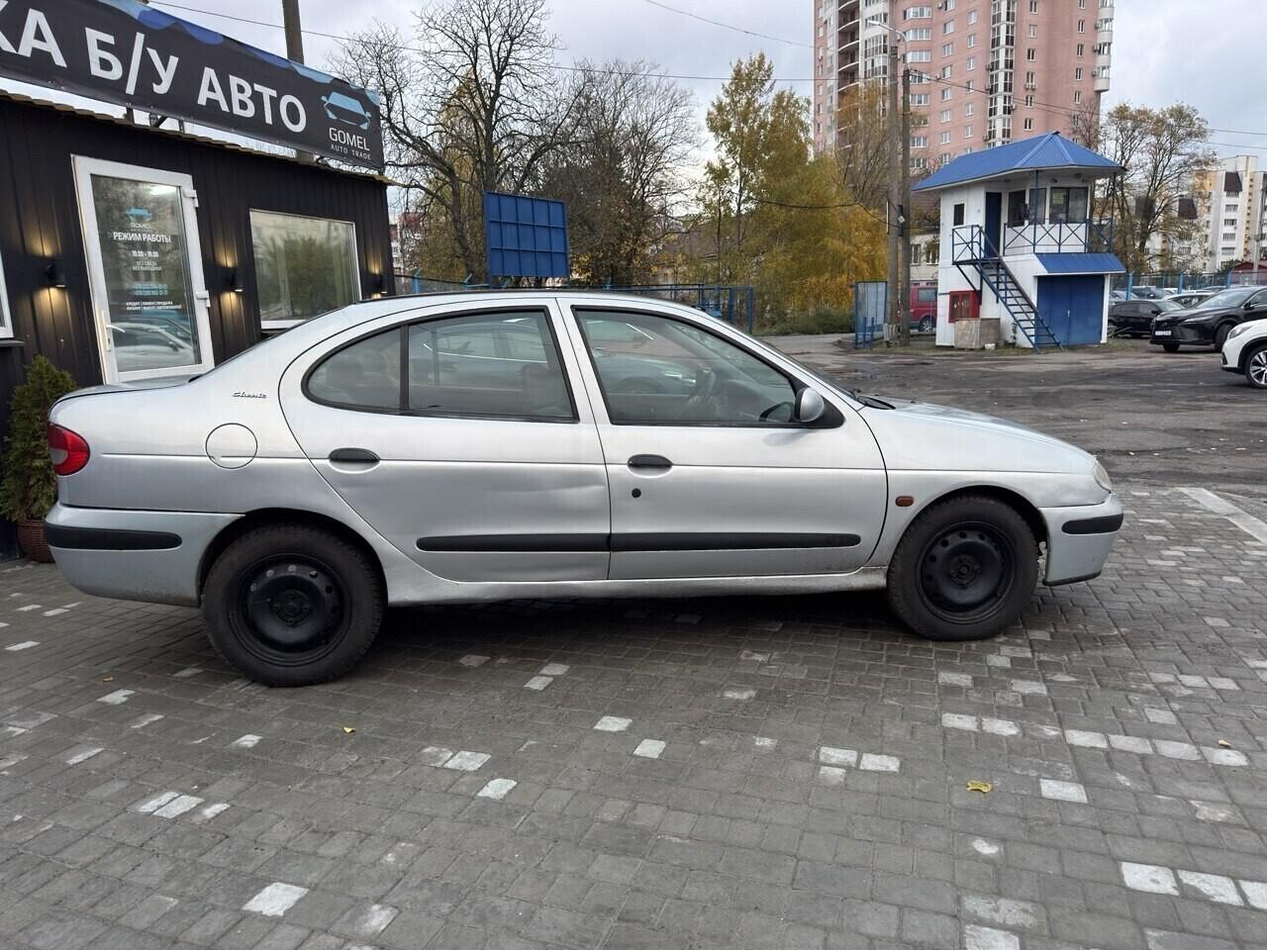Megane_1999-2003: (33, 291, 1120, 673)
